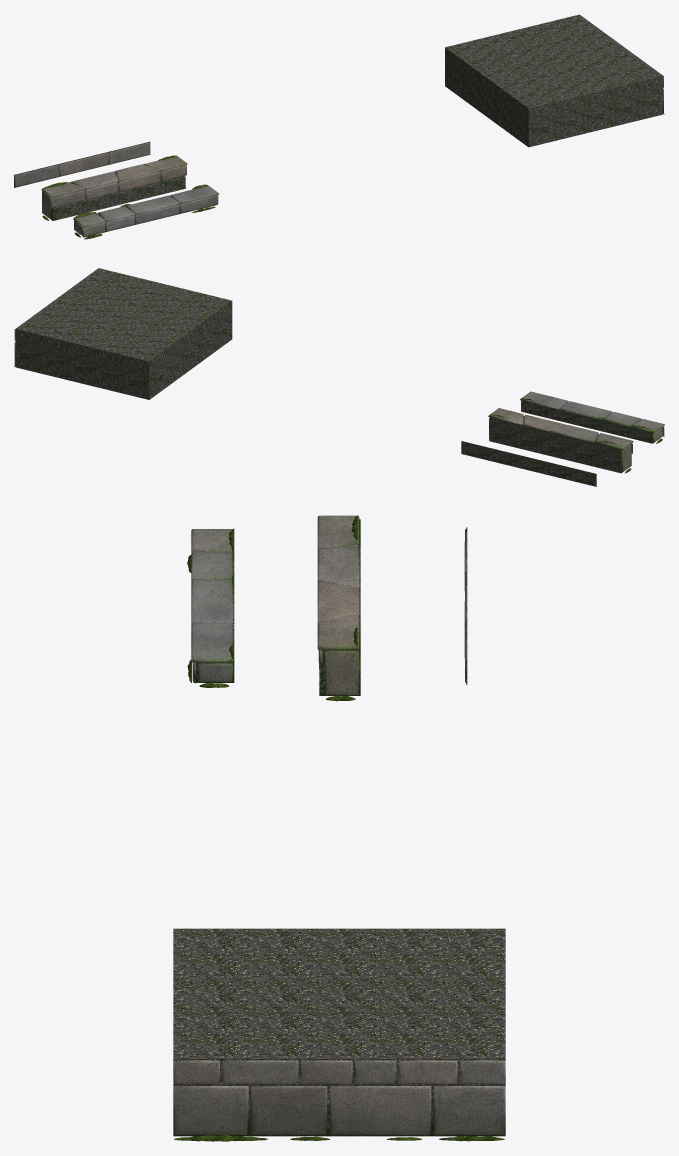
The model's file is stonesteps.glb.
3 renders of one model, top to bottom at view 1: azimuth 30°, elevation 25°; view 2: azimuth 150°, elevation 25°; view 3: azimuth 270°, elevation 25°, orthographic. The views are drawn at different scales.
Parts seen in each view (by area): view 1: StoneFoot, StoneStep1, StoneStep2, StoneStep0; view 2: StoneFoot, StoneStep1, StoneStep2, StoneStep0; view 3: StoneFoot, StoneStep1, StoneStep2.
Part boxes in pixels (<box>): StoneFoot: <box>445,14,664,147</box>; StoneStep1: <box>41,155,187,220</box>; StoneStep2: <box>73,184,218,239</box>; StoneStep0: <box>14,141,150,187</box>; StoneFoot: <box>14,268,232,399</box>; StoneStep1: <box>488,408,633,473</box>; StoneStep2: <box>520,391,664,443</box>; StoneStep0: <box>461,441,596,486</box>; StoneFoot: <box>173,928,505,1141</box>; StoneStep1: <box>317,515,360,701</box>; StoneStep2: <box>187,528,234,687</box>.
Bounding box in the file's own units: 5.27 × 0.345 × 1.32.
3 materials, 3 textured.
